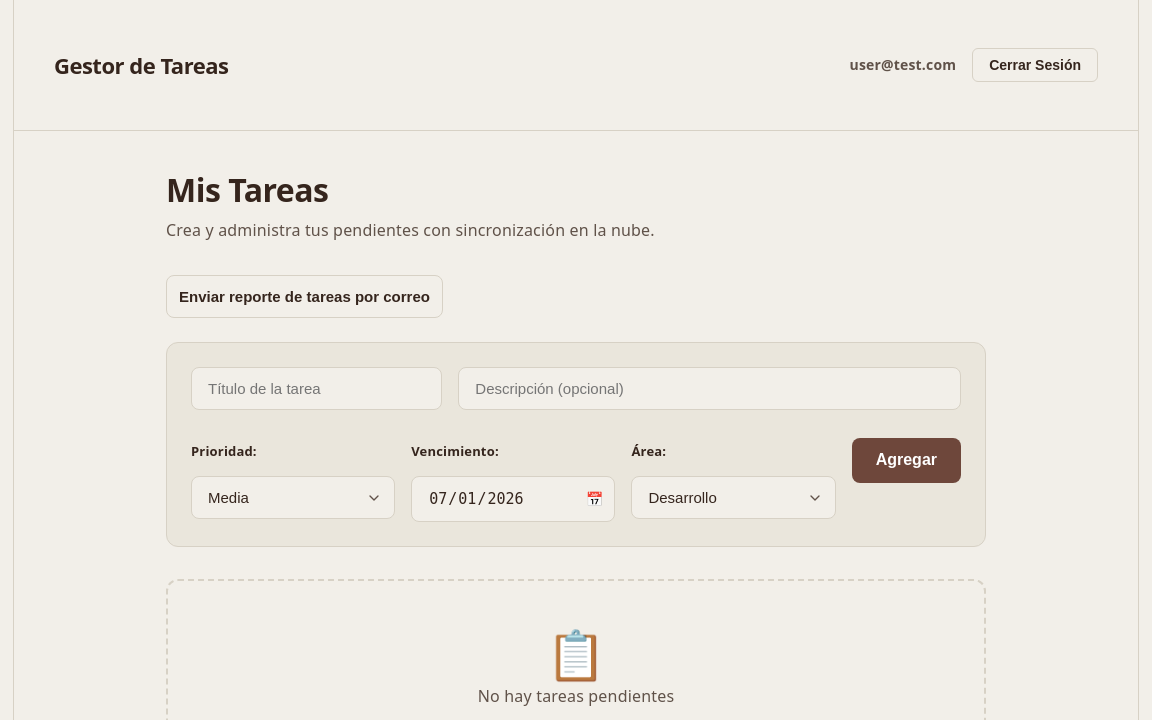
Test: Dashboard Component - Hito 8 Testing › debe procesar una respuesta 400 del servidor al enviar el reporte por correo y mostrar el error en pantalla
// Encontrar y hacer clic en el botón de enviar reporte
Click the button "Enviar reporte de tareas por correo". click: (304, 296)
box: [166,275,443,318]
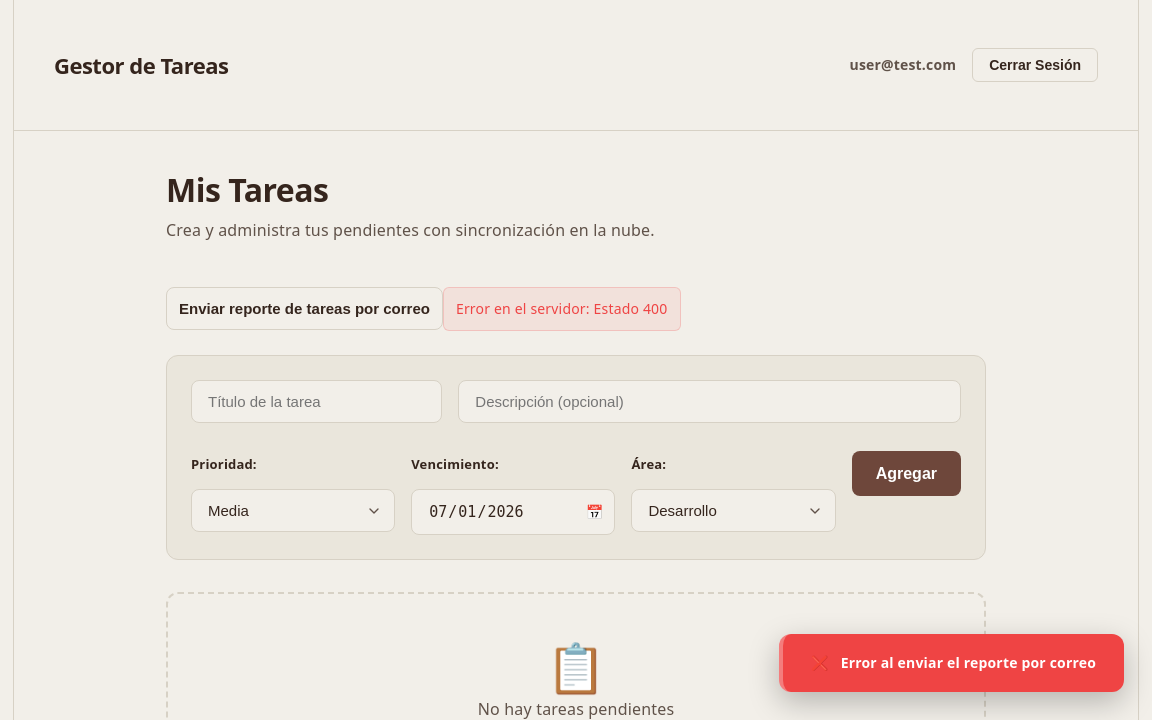
Result: the text "Error en el servidor: Estado 400" is shown at [443,287,680,331]
